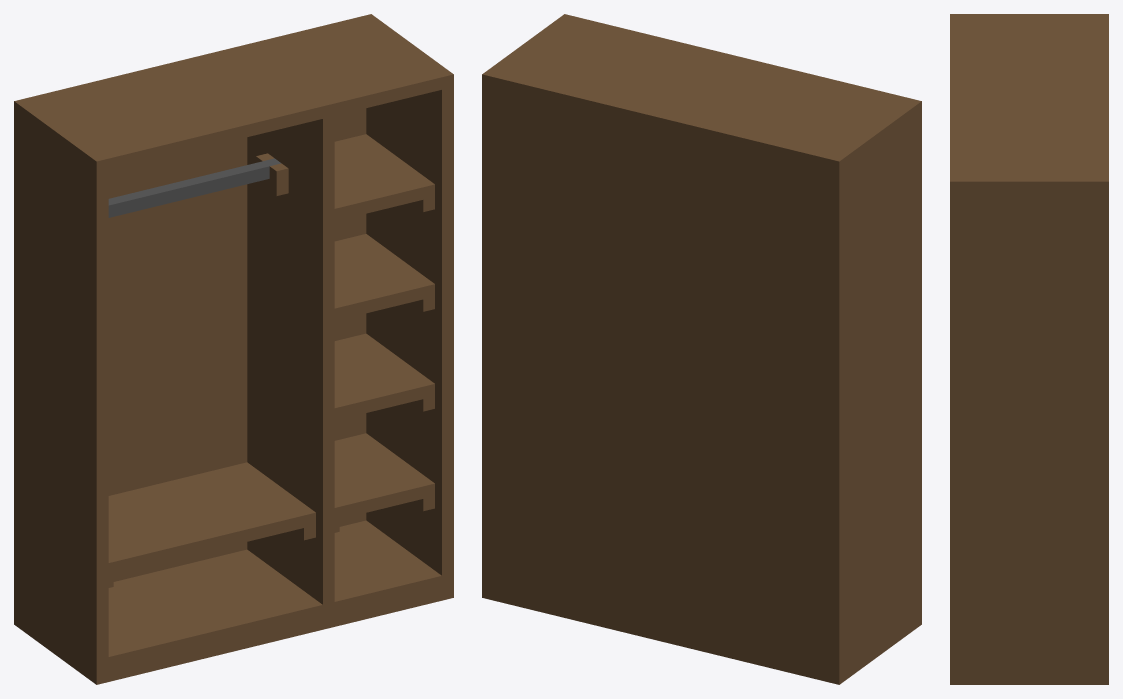
Rendered from Wardrobe00-Base.gltf.
The picture shows the model from 3 angles, left to right: view 1: azimuth 30°, elevation 25°; view 2: azimuth 150°, elevation 25°; view 3: azimuth 270°, elevation 25°; orthographic projection. The views are drawn at different scales.
Visible parts, largest first — view 1: base, ShoeDivider, Dividers.3, Dividers, Dividers.2, Dividers.1, Coathanger; view 2: base; view 3: base.
Part boxes in pixels (bbox=[...]): base: bbox=[14, 14, 453, 684]; ShoeDivider: bbox=[108, 462, 315, 587]; Dividers.3: bbox=[334, 134, 434, 233]; Dividers: bbox=[334, 433, 434, 532]; Dividers.2: bbox=[334, 234, 434, 333]; Dividers.1: bbox=[334, 333, 434, 432]; Coathanger: bbox=[108, 153, 288, 217]; base: bbox=[482, 14, 921, 684]; base: bbox=[950, 14, 1108, 684].
Bounding box in the file's own units: 30 × 42 × 12.
